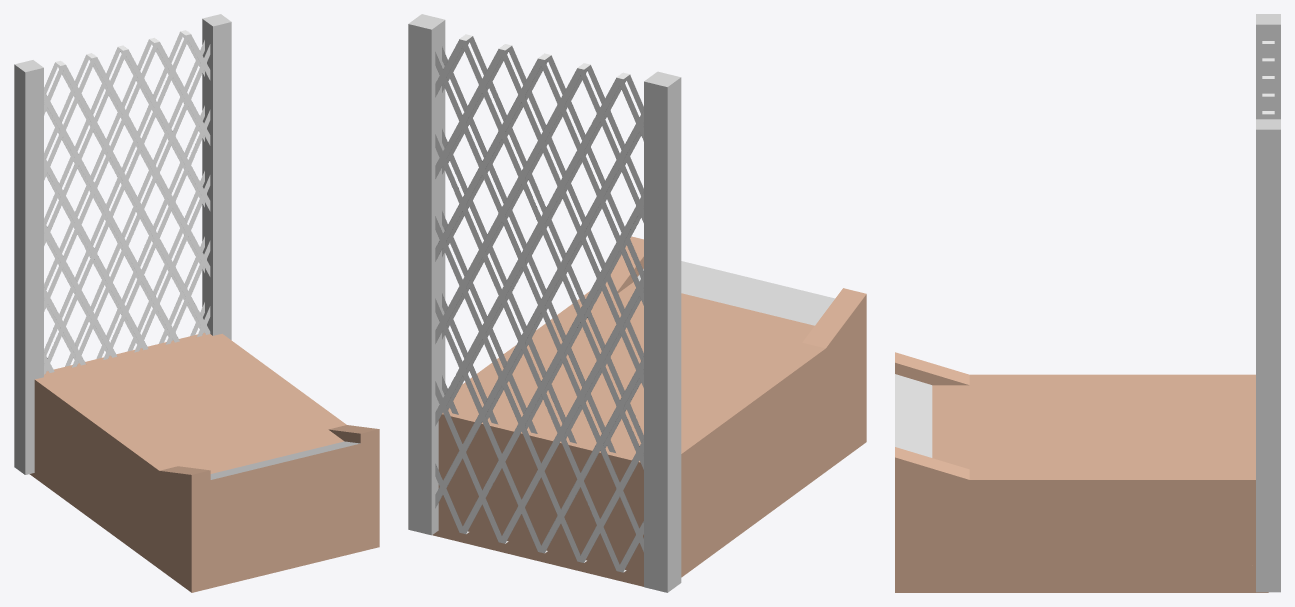
The model's file is Map parts.fbx.
3 views of the same model, side by side, from view 1: azimuth 30°, elevation 25°; view 2: azimuth 150°, elevation 25°; view 3: azimuth 270°, elevation 25° (orthographic). The views are drawn at different scales.
Visible parts, largest first — view 1: Grid, Ramp Wall (under), Ramp Middle, Ramp Left, Ramp Right, Ramp simple; view 2: Grid, Ramp Wall (under), Ramp Right, Ramp Middle, Ramp Left, Ramp simple; view 3: Ramp Wall (under), Ramp Middle, Grid, Ramp Left, Ramp Right, Ramp simple.
Part boxes in pixels (box(x1,y1,x2,y2)): Grid: box(14, 14, 231, 474); Ramp Wall (under): box(30, 332, 346, 579); Ramp Middle: box(32, 439, 379, 592); Ramp Left: box(61, 425, 379, 592); Ramp Right: box(34, 439, 378, 592); Ramp simple: box(179, 425, 378, 591); Grid: box(408, 14, 681, 592); Ramp Wall (under): box(438, 282, 866, 584); Ramp Right: box(433, 261, 866, 586); Ramp Middle: box(433, 261, 866, 586); Ramp Left: box(435, 236, 864, 586); Ramp simple: box(438, 236, 832, 583); Ramp Wall (under): box(895, 374, 1255, 566); Ramp Middle: box(895, 374, 1268, 592); Grid: box(1256, 14, 1280, 592); Ramp Left: box(895, 374, 1267, 592); Ramp Right: box(895, 352, 969, 421); Ramp simple: box(895, 382, 943, 471).
Size of the model in its own units: 220 by 415 by 310.
